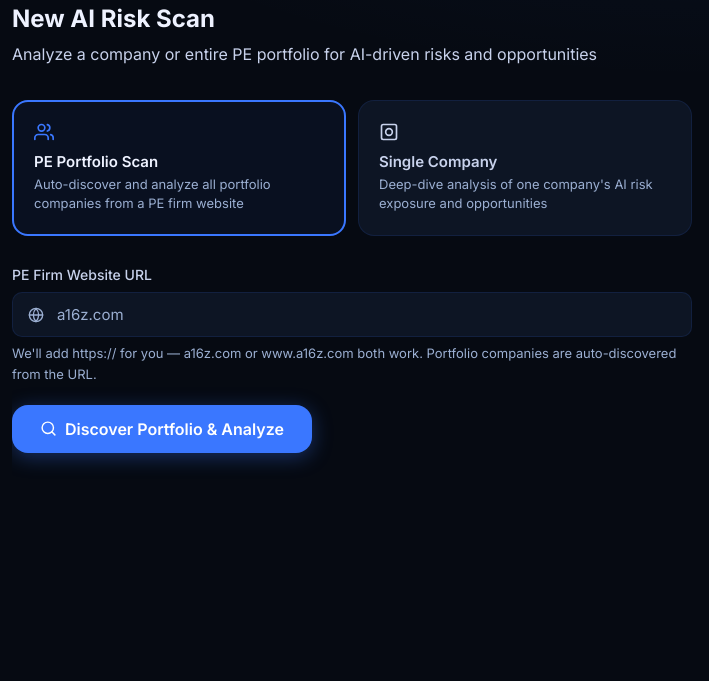
NewScanPage › portfolio confirm and polling flow › fetches a provided source URL and re-enters discovery
In the field labelled "PE Firm Website URL": coordinates (352, 315) [12,292,692,337], type "https://pe-firm.com"
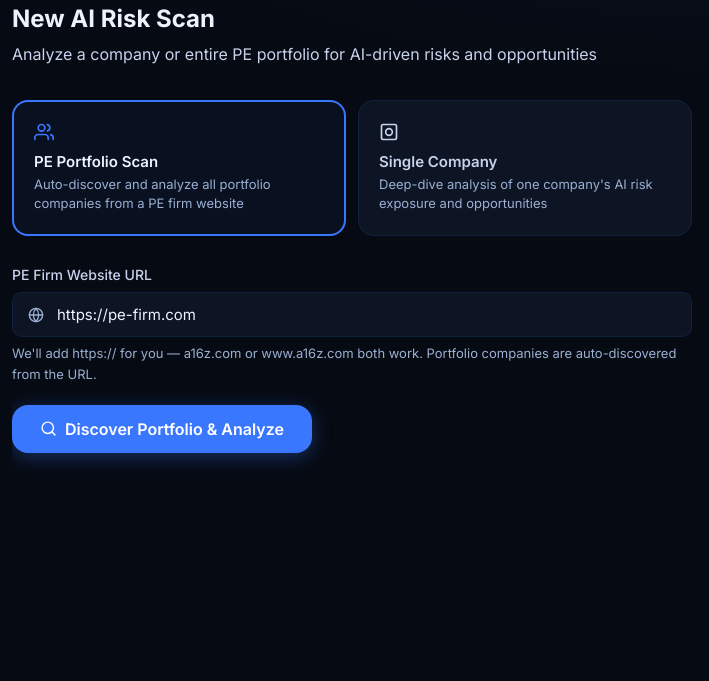
Click the button "Discover Portfolio & Analyze": coordinates (162, 429) [12,405,312,453]
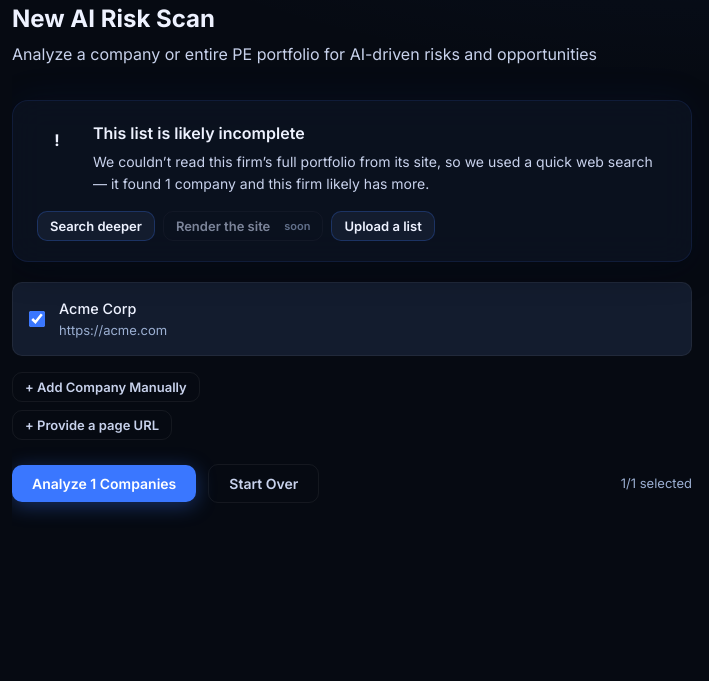
Expected: the text "This list is likely incomplete" is shown, [93,123,305,143]
Click the button "+ Provide a page URL": coordinates (92, 425) [12,410,172,440]
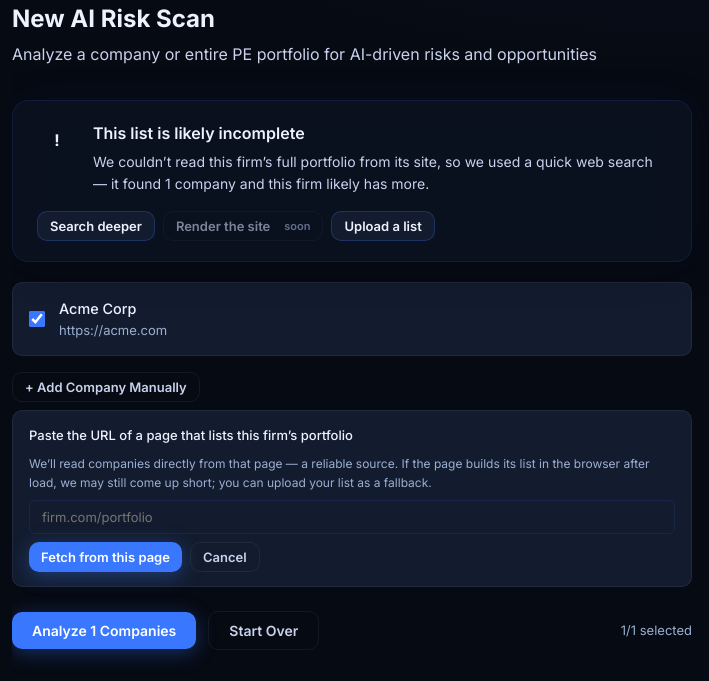
In the field named "Portfolio page URL": coordinates (352, 517) [29,500,675,534], type "pe-firm.com/portfolio"
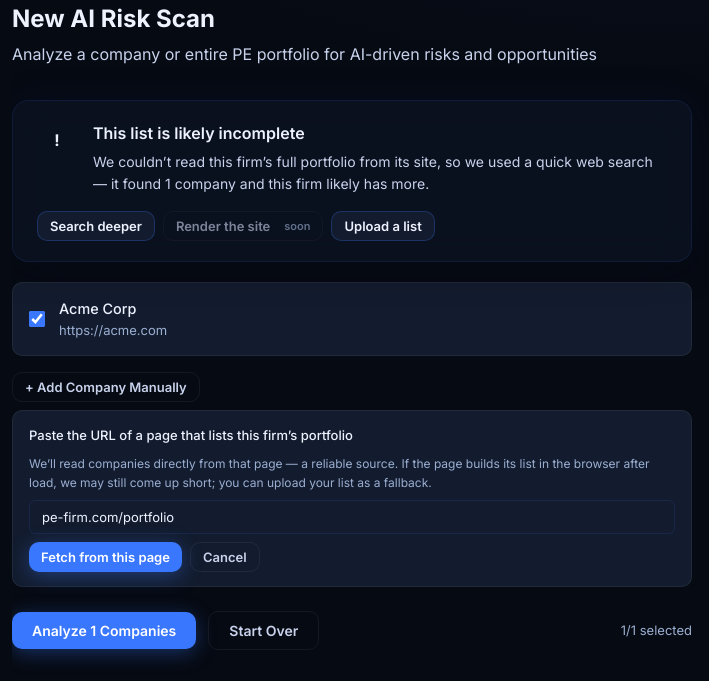
Click the button "Fetch from this page": coordinates (105, 557) [29,542,182,572]
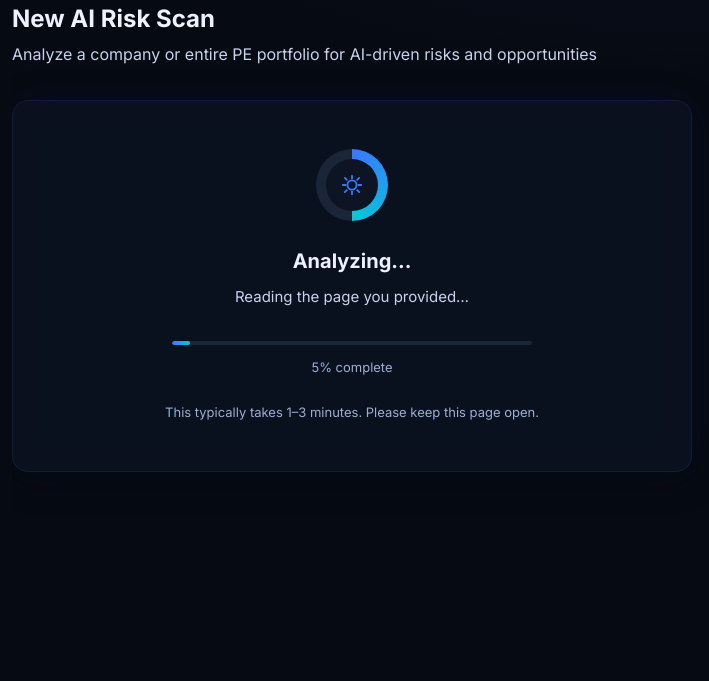
Expected: the text "Reading the page you provided…" is shown, [235,287,469,306]
